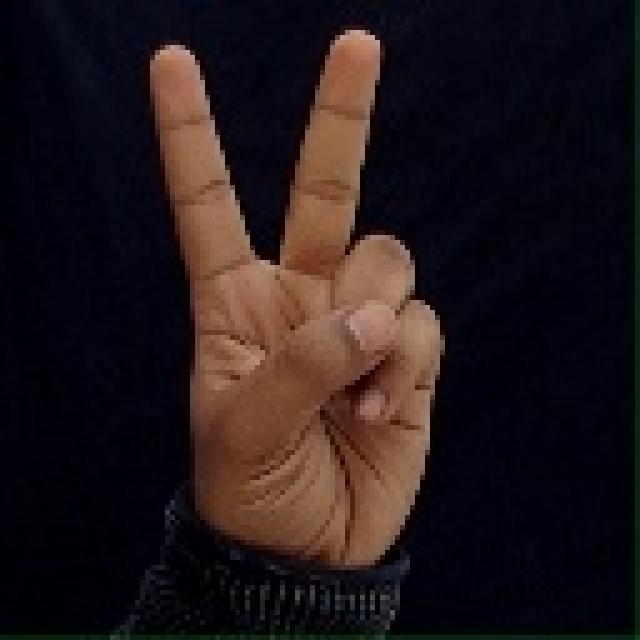Numeric-2: (139, 22, 446, 572)
